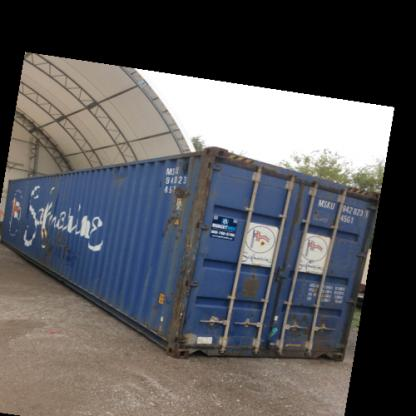Damage: (172, 251, 203, 335), (192, 163, 222, 227), (38, 231, 80, 271), (167, 174, 191, 230), (238, 266, 261, 306), (106, 164, 128, 182)
